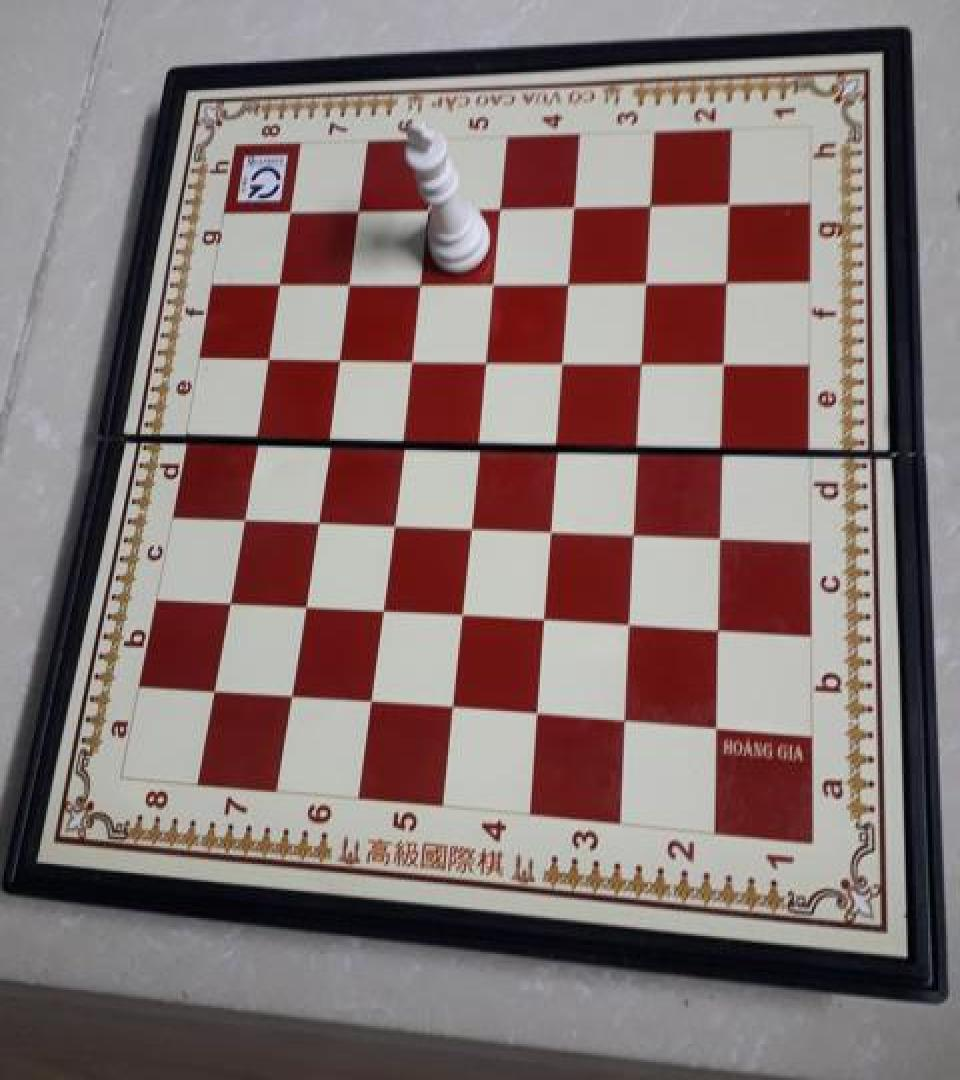xcorner: (202, 670, 230, 702), (280, 676, 308, 708), (442, 687, 470, 719), (527, 694, 555, 726), (292, 585, 320, 617), (370, 589, 398, 621), (451, 594, 479, 626), (618, 604, 646, 636), (229, 496, 257, 528), (304, 499, 332, 531), (459, 505, 487, 537), (540, 508, 568, 540), (623, 513, 651, 545), (708, 516, 736, 548), (242, 415, 270, 447), (315, 417, 343, 449), (390, 418, 418, 450), (546, 423, 574, 455), (627, 425, 655, 457), (711, 427, 739, 459), (254, 337, 282, 369), (631, 342, 659, 374), (713, 343, 741, 375), (266, 263, 294, 295), (336, 263, 364, 295), (408, 263, 436, 295), (482, 263, 510, 295), (557, 263, 585, 295), (635, 263, 663, 295), (715, 263, 743, 295), (277, 192, 305, 224), (346, 191, 374, 223), (416, 190, 444, 222), (489, 189, 517, 221), (360, 682, 388, 713), (614, 701, 642, 732), (704, 708, 732, 739), (216, 582, 244, 613), (533, 600, 561, 631), (706, 609, 734, 640), (380, 503, 408, 534), (467, 421, 495, 452), (326, 339, 354, 370), (399, 339, 427, 370), (474, 340, 502, 371), (552, 341, 580, 372), (563, 188, 591, 219), (639, 187, 667, 218), (716, 186, 744, 217)
